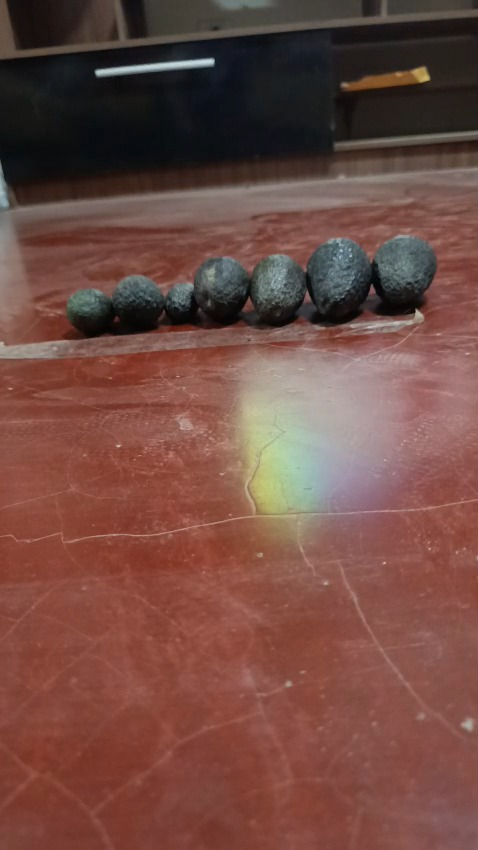Primera: (305, 237, 371, 321), (371, 234, 437, 310)
Segunda: (249, 253, 307, 324), (193, 255, 250, 322), (112, 274, 165, 329)
Tercera: (66, 288, 112, 336), (164, 282, 197, 324)
